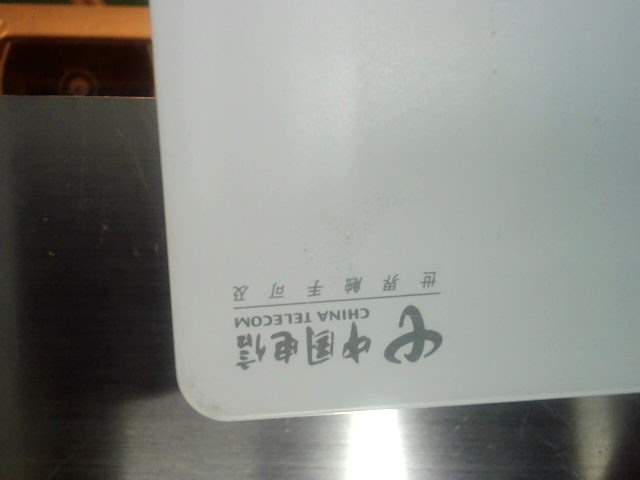AB_ChinaTelecom: (222, 261, 460, 371)
